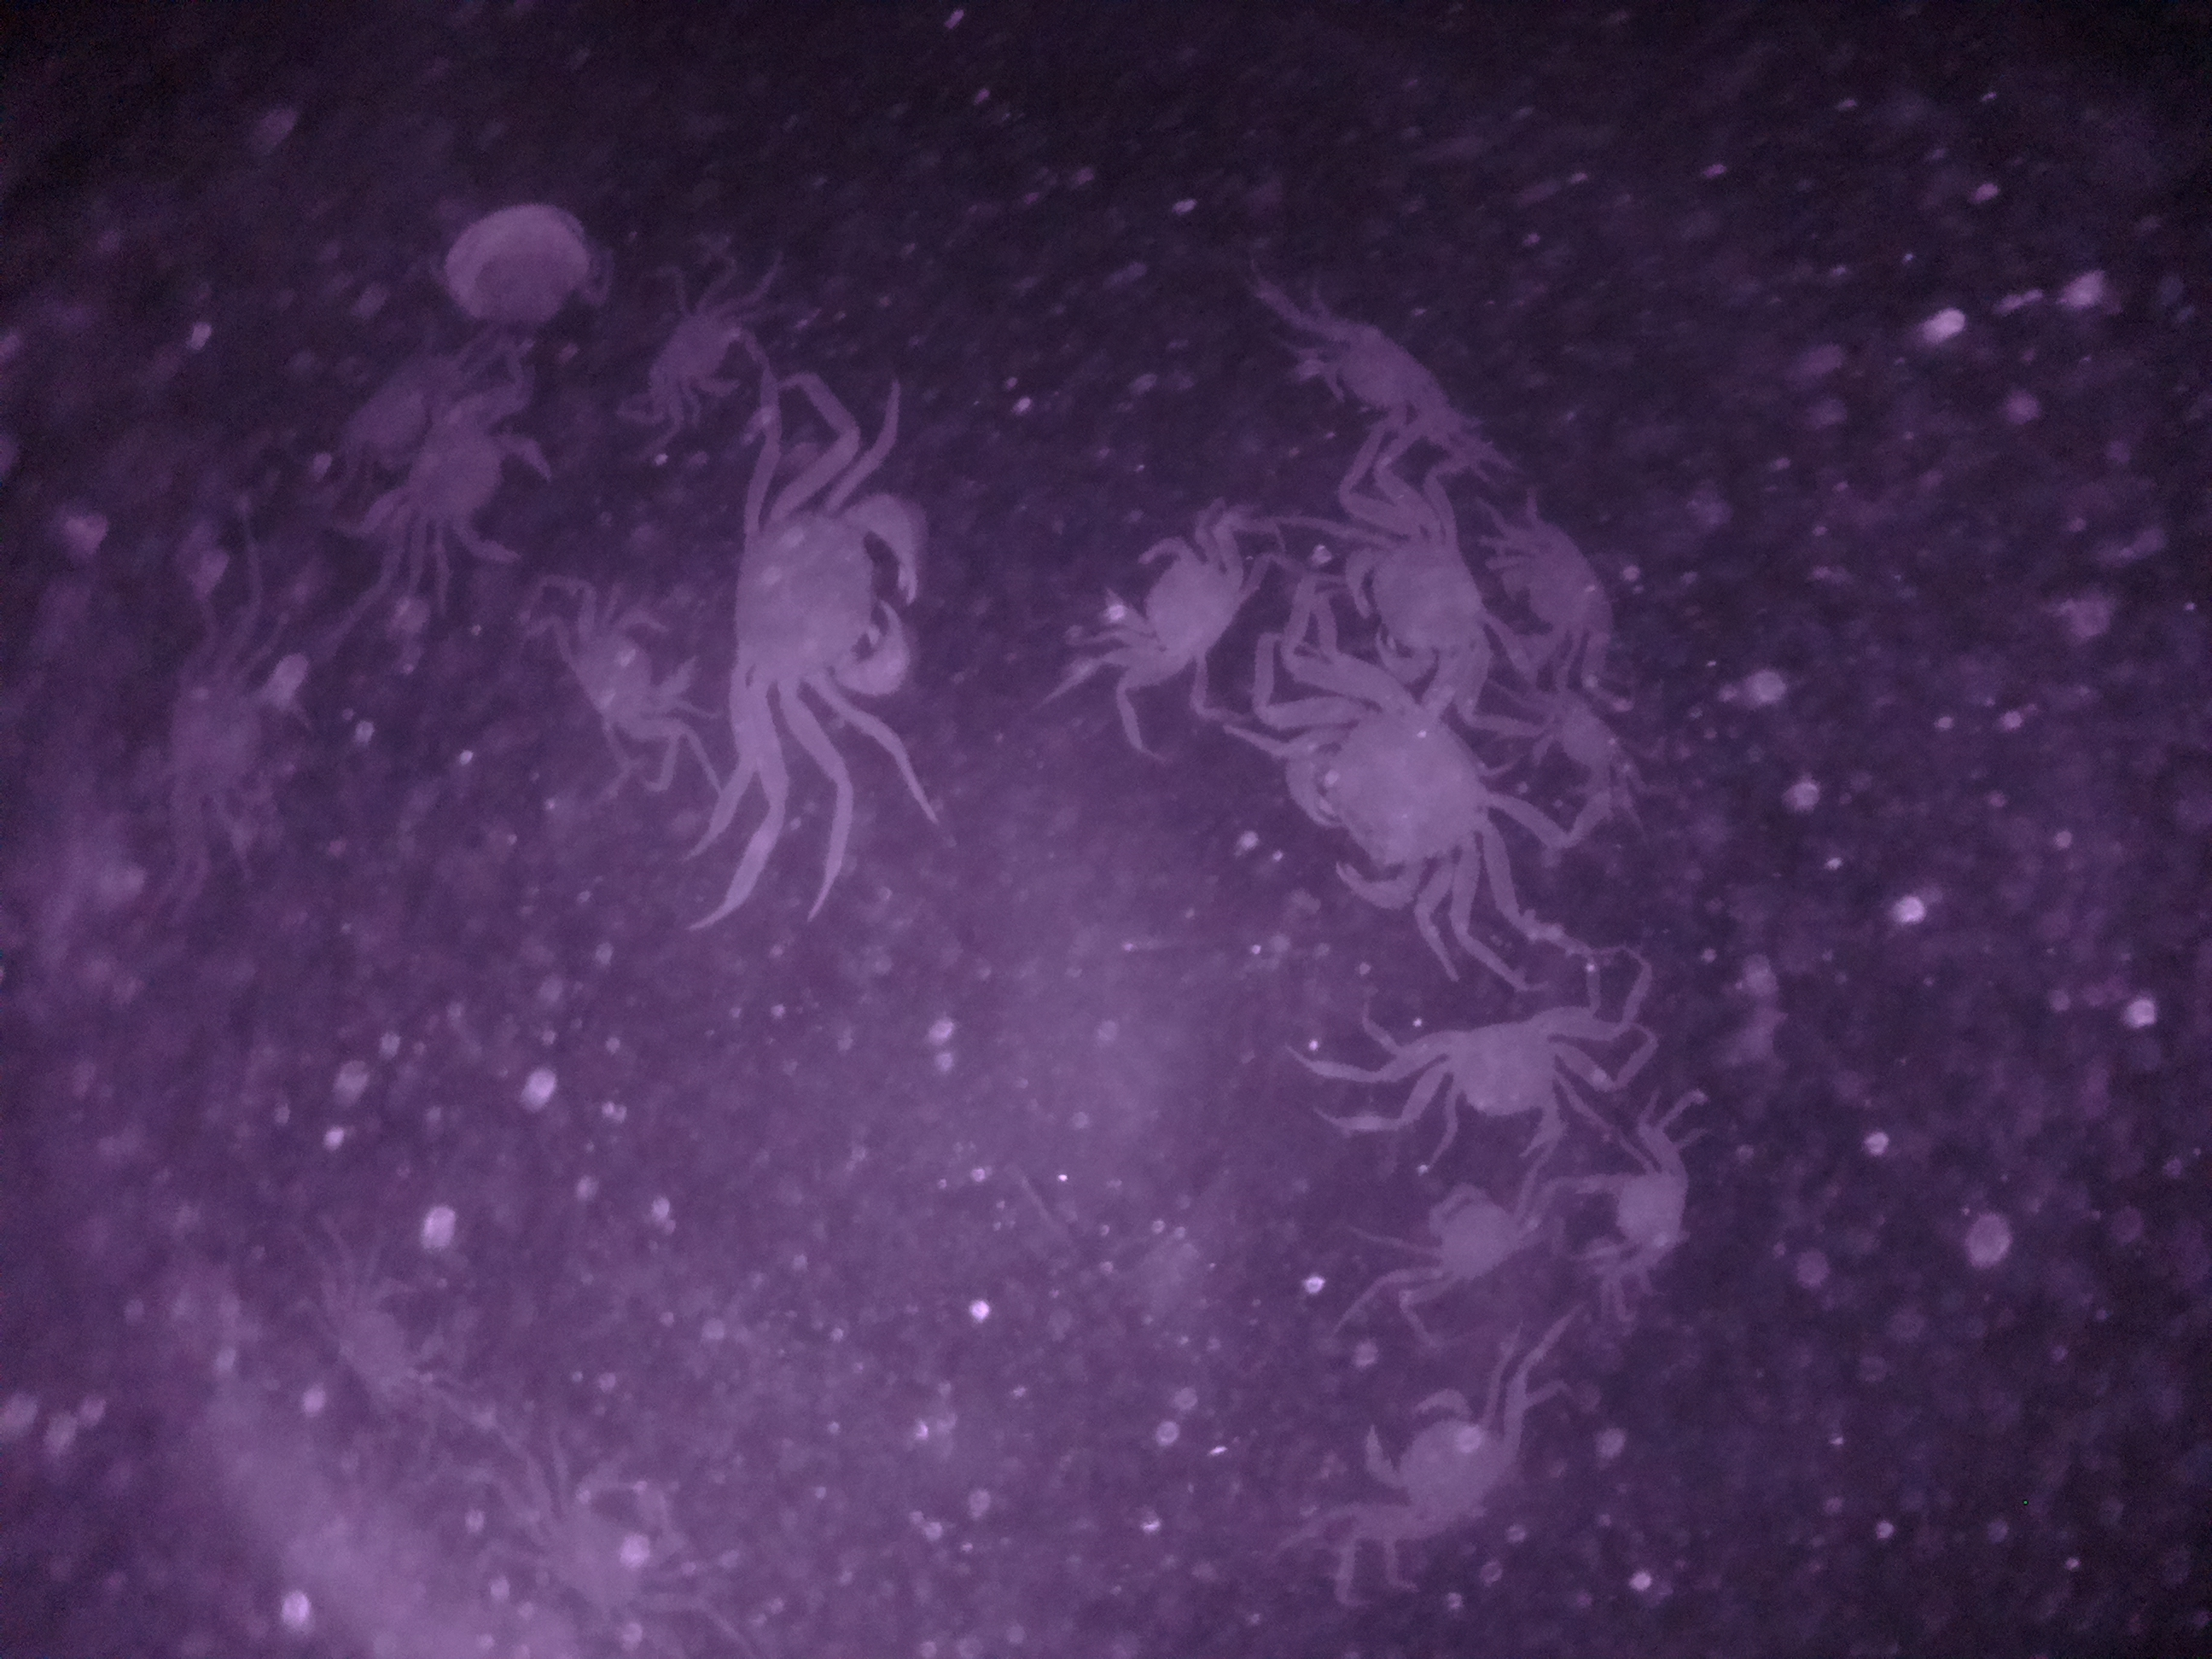Crab: (1261, 641, 1512, 932), (711, 451, 939, 749), (1343, 1373, 1547, 1582), (1352, 997, 1615, 1143), (1097, 502, 1266, 702), (549, 579, 704, 762), (1562, 1122, 1714, 1288)
